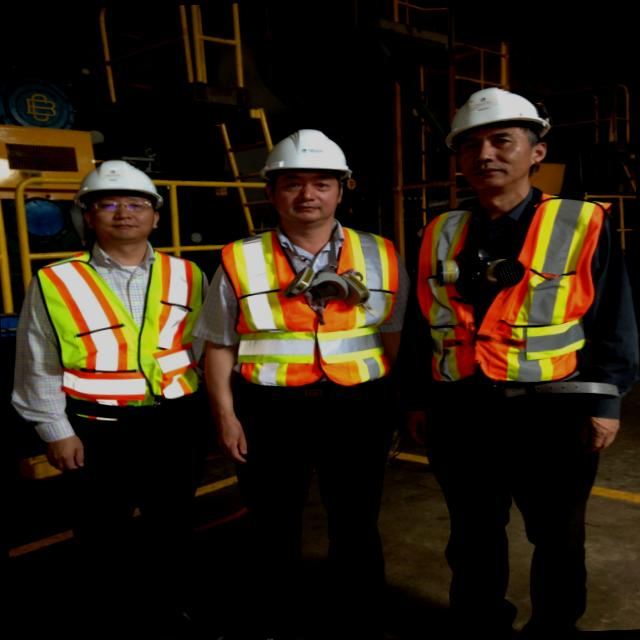goggles: (75, 192, 172, 226)
helmet: (442, 83, 560, 137), (70, 152, 163, 208), (262, 130, 352, 182)
no-goggles: (446, 123, 562, 158), (261, 162, 355, 203)
vest: (426, 191, 616, 404), (38, 252, 218, 421), (227, 216, 390, 402)
